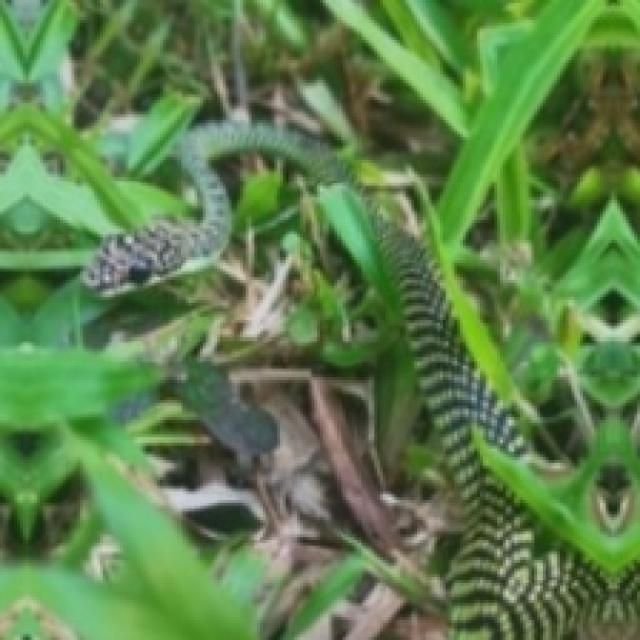paradise tree snake: (160, 126, 637, 637)
